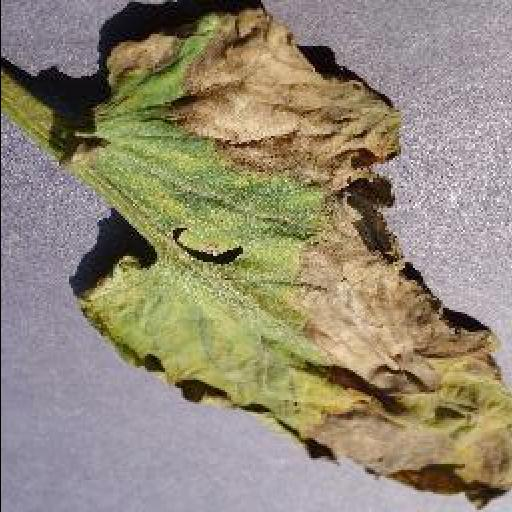disease_tomato: (72, 1, 512, 511)
